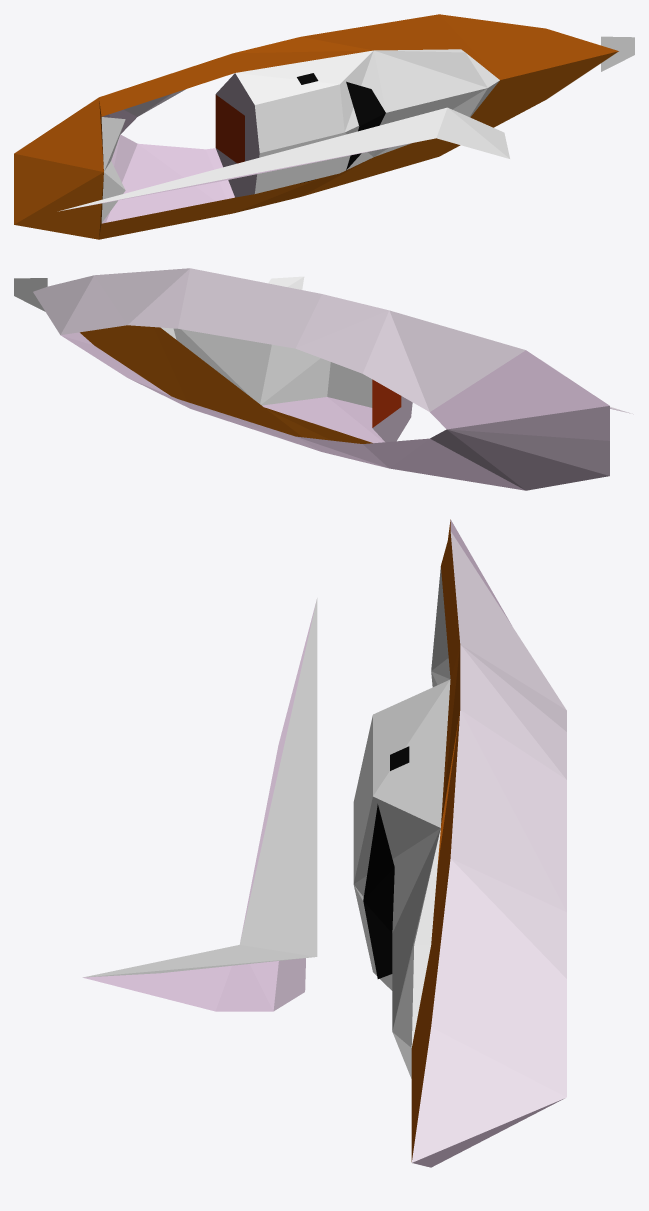
Rendered from objs2_29.obj.
3 views of the same model, one above another, from view 1: azimuth 30°, elevation 25°; view 2: azimuth 150°, elevation 25°; view 3: azimuth 270°, elevation 25° (orthographic). The views are drawn at different scales.
Size of the model in its own units: 5.76 by 1.44 by 2.
